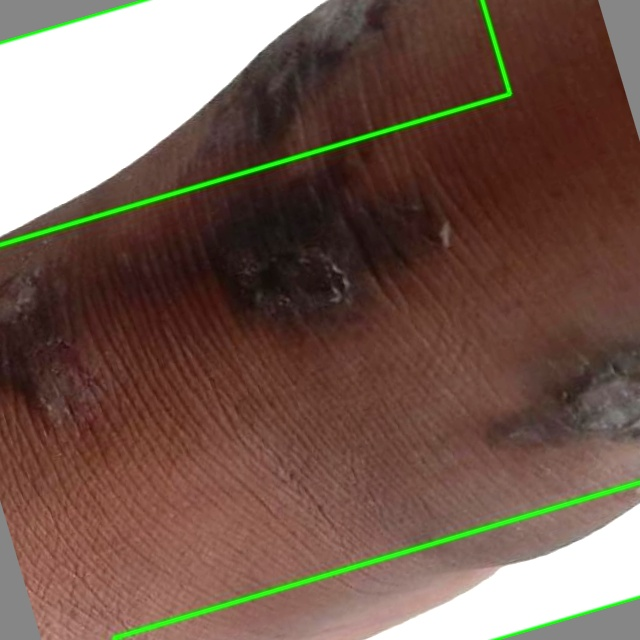Contact Dermatitis: (0, 0, 509, 244)
